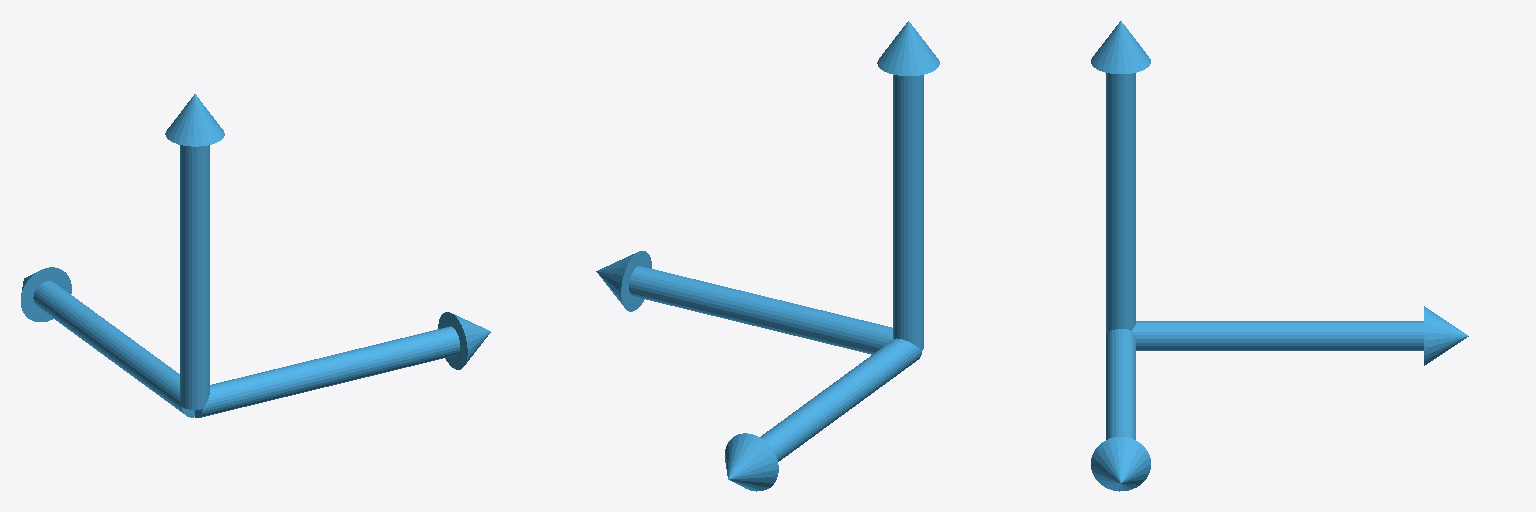
robot.urdf — ktt:
<robot name="ktt">
  <link name="world"/>
  <link name="f1">
    <inertial>
      <!-- center of mass (com) is defined w.r.t. link local coordinate system -->
      <mass value="1.0" />
      <origin xyz="0.0, 0.0, 0.0" /> 
      <inertia  ixx="1.0" ixy="0.0"  ixz="0.0"  iyy="1.0"  iyz="0.0"  izz="1.0" />
    </inertial>
	<visual>
      <origin rpy="0 0 0" xyz="0 0 0"/>
      <geometry>
         <mesh filename="axis_system.obj" scale="1 1 1"/>
      </geometry>
    </visual>
    <collision>
      <!-- No collision shape -->
      <geometry>
        <box size="0 0 0"/>
      </geometry>
    </collision>
  </link>
  <link name="f2">
    <inertial>
      <!-- center of mass (com) is defined w.r.t. link local coordinate system -->
      <mass value="1.0" />
      <origin xyz="0.0, 0.0, 0.0" /> 
      <inertia  ixx="1.0" ixy="0.0"  ixz="0.0"  iyy="1.0"  iyz="0.0"  izz="1.0" />
    </inertial>
	<visual>
      <origin rpy="0 0 0" xyz="0 0 0"/>
      <geometry>
         <mesh filename="axis_system.obj" scale="1 1 1"/>
      </geometry>
    </visual>
    <collision>
      <!-- No collision shape -->
      <geometry>
        <box size="0 0 0"/>
      </geometry>
    </collision>
  </link>
  <link name="f3">
    <inertial>
      <!-- center of mass (com) is defined w.r.t. link local coordinate system -->
      <mass value="1.0" />
      <origin xyz="0.0, 0.0, 0.0" /> 
      <inertia  ixx="1.0" ixy="0.0"  ixz="0.0"  iyy="1.0"  iyz="0.0"  izz="1.0" />
    </inertial>
	<visual>
      <origin rpy="0 0 0" xyz="0 0 0"/>
      <geometry>
         <mesh filename="axis_system.obj" scale="1 1 1"/>
      </geometry>
    </visual>
    <collision>
      <!-- No collision shape -->
      <geometry>
        <box size="0 0 0"/>
      </geometry>
    </collision>
  </link>
  <joint name="f1_joint" type="floating">
      <origin xyz="0.0 0.0 0.0" rpy="0 0 0"/>
      <parent link="world"/>
      <child link="f1"/>
  </joint>
  <joint name="f2_joint" type="floating">
      <origin xyz="0.0 0.0 0.0" rpy="0 0 0"/>
      <parent link="f1"/>
      <child link="f2"/>
  </joint>
  <joint name="f3_joint" type="floating">
      <origin xyz="0.0 0.0 0.0" rpy="0 0 0"/>
      <parent link="f2"/>
      <child link="f3"/>
  </joint>

</robot>

--- Render facts (derived) ---
3 views of the same robot in one strip: view 1: azimuth 30°, elevation 25°; view 2: azimuth 150°, elevation 25°; view 3: azimuth 270°, elevation 25° (orthographic).
Robot: ktt — 4 links, 3 joints (3 floating); root link world; default pose: all joints at 0.
Links seen in each view (by area): view 1: f1; view 2: f1; view 3: f1.
Boxes of the visible links, box(x1,y1,x2,y2) form: f1: box(21, 94, 490, 417); f1: box(596, 21, 939, 491); f1: box(1091, 21, 1468, 491).
Bounding box of the posed robot: 2.5 × 2.5 × 2.5 m (x, y, z).
Meshes: 1 distinct files referenced, 3 mesh visuals loaded (1 OBJ).